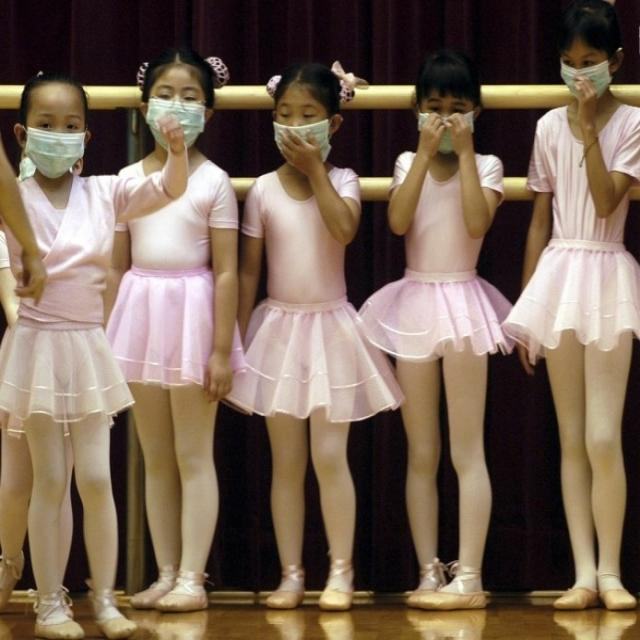mask: (23, 89, 84, 173), (148, 70, 205, 148), (272, 86, 329, 159), (420, 89, 471, 146), (560, 40, 608, 97)
